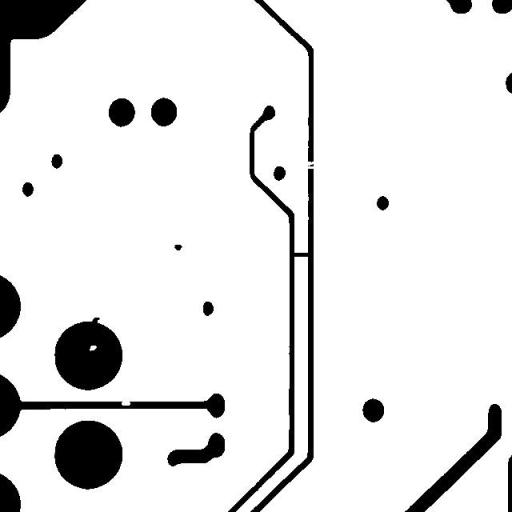copper: (166, 236, 190, 258)
mousebite: (114, 394, 138, 412)
open: (296, 154, 324, 176)
pin-hole: (82, 338, 104, 358)
short: (284, 245, 318, 264)
spur: (82, 310, 108, 336)
